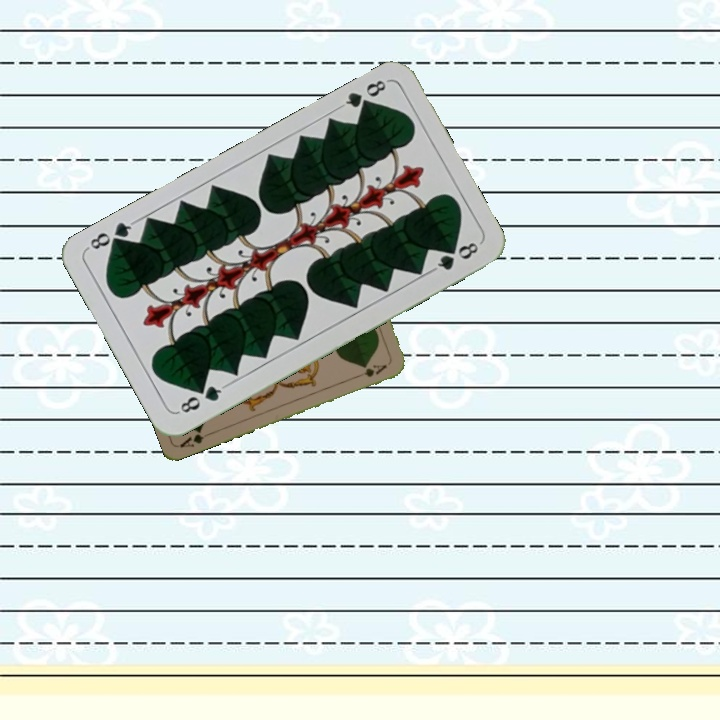G8: (336, 75, 389, 115), (174, 381, 228, 416)
GA: (176, 426, 215, 450)
